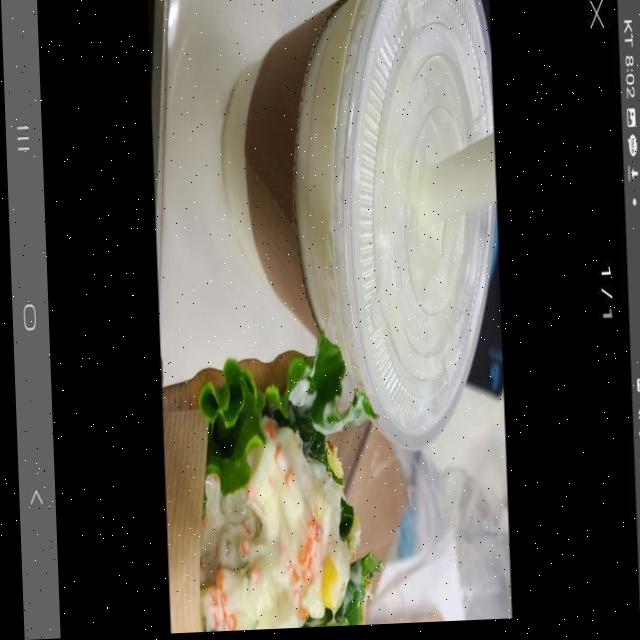cup: (185, 0, 504, 488)
